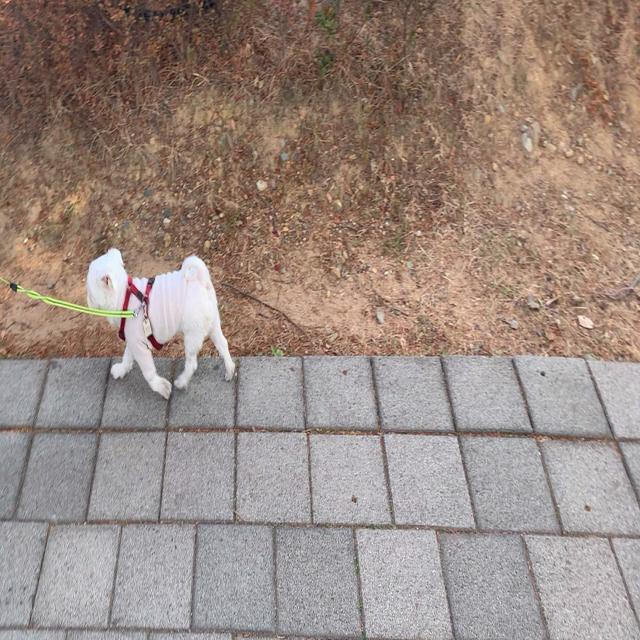Dog: (86, 247, 236, 401)
